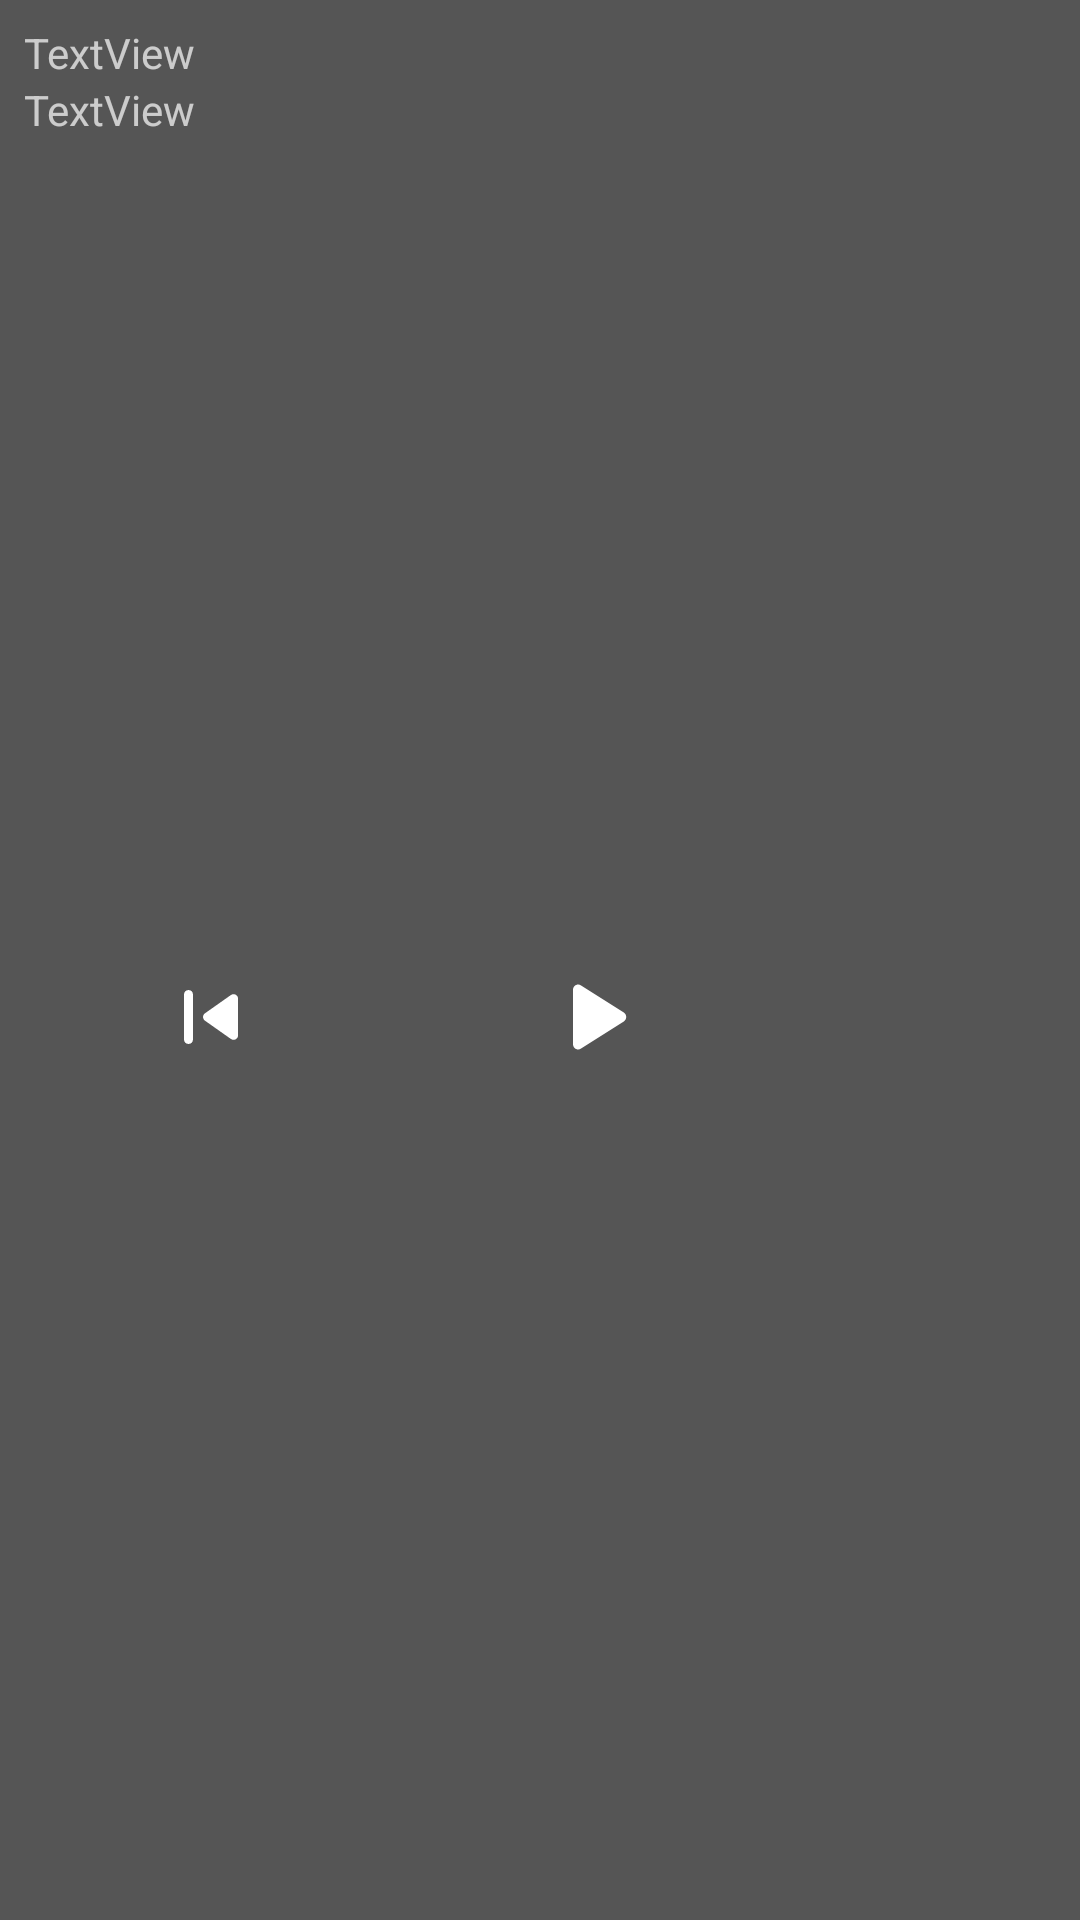

Locate icon controls on the screen. Image size 1080x1920, boxes as (x1, y1, x2, y2).
Play/Pause: (573, 984, 627, 1050)
Skip To Previous Song: (184, 990, 238, 1044)
